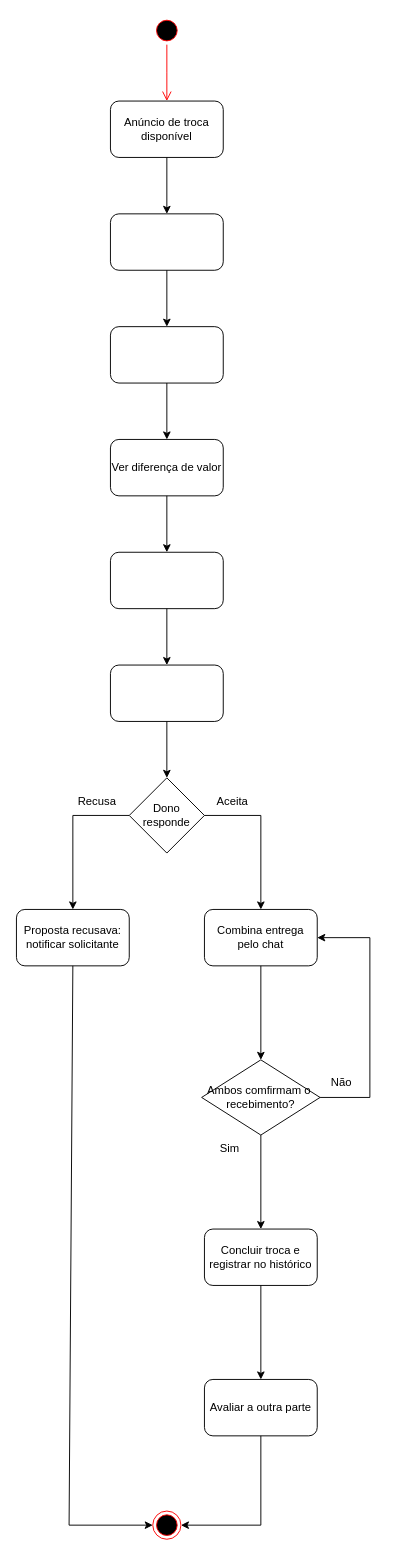
The diagram is 394 pixels wide and 1556 high, and some of its shapes have lost their labels. Each missing label, with the box of its shape:
Enviar proposta: (110, 551, 223, 609)
Notificar dono do anúncio: (110, 664, 223, 721)
Propor troca: (110, 213, 223, 270)
Selecionar carta da minha coleção: (110, 326, 223, 383)
